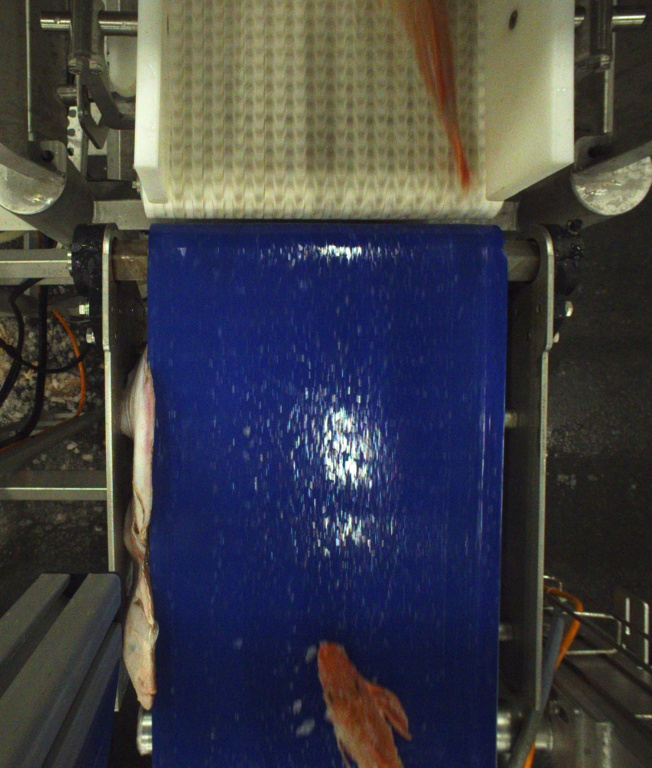GUU: (396, 0, 473, 195)
